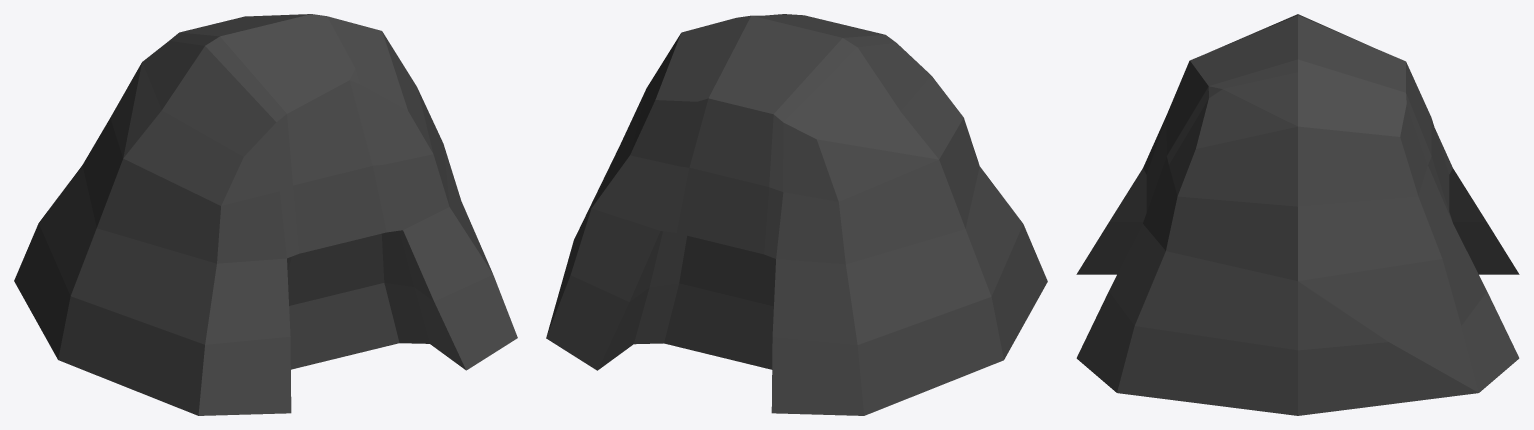
The model's file is 3DObj_StoneHole.fbx.
3 views of the same model, side by side, from view 1: azimuth 30°, elevation 25°; view 2: azimuth 150°, elevation 25°; view 3: azimuth 270°, elevation 25° (orthographic).
Parts seen in each view (by area): view 1: 3DObj_StoneHole; view 2: 3DObj_StoneHole; view 3: 3DObj_StoneHole.
Part boxes in pixels (bbox=[...]): 3DObj_StoneHole: bbox=[14, 14, 517, 415]; 3DObj_StoneHole: bbox=[546, 14, 1047, 415]; 3DObj_StoneHole: bbox=[1076, 14, 1519, 415].
Size of the model in its own units: 131 by 85.8 by 123.
1 material, 1 textured.
